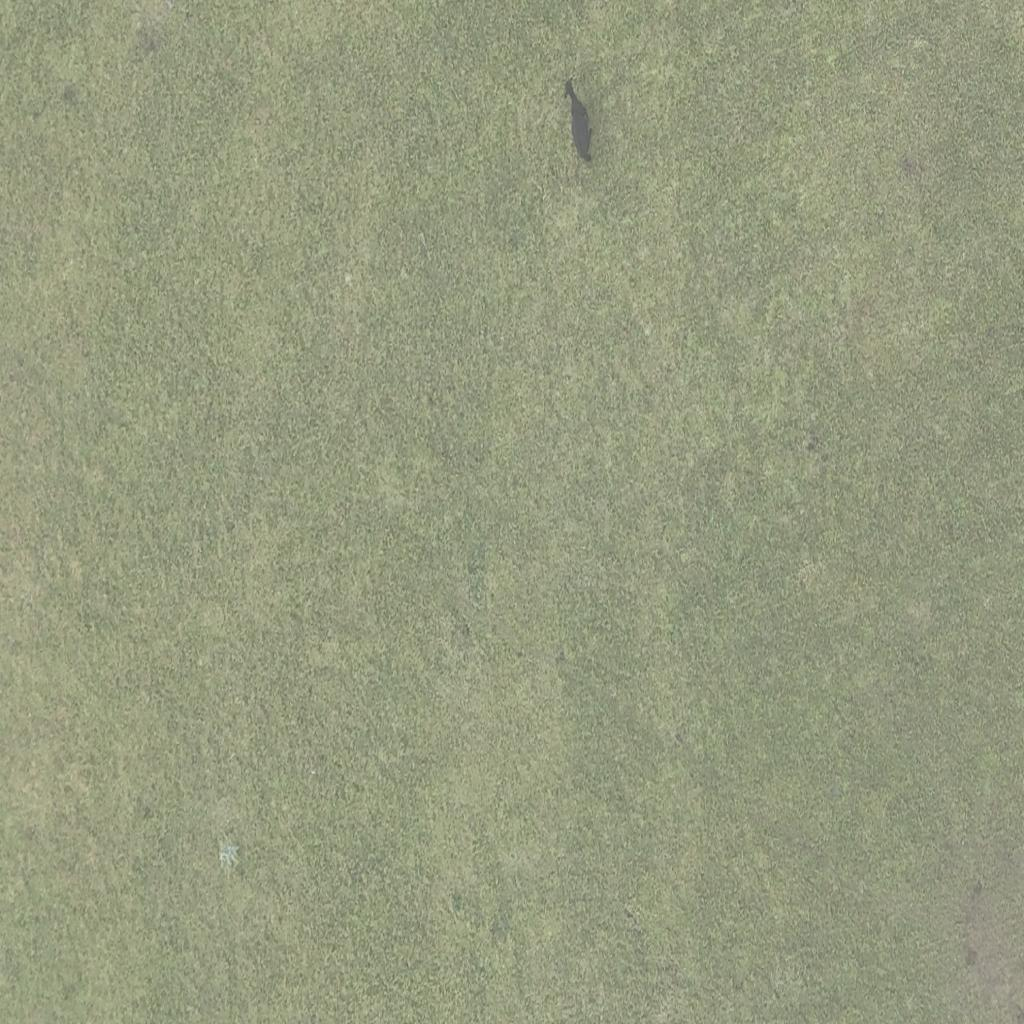cow: (564, 75, 594, 166)
